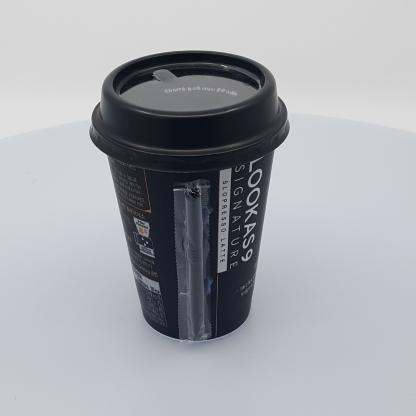-------------: (90, 51, 290, 342)
